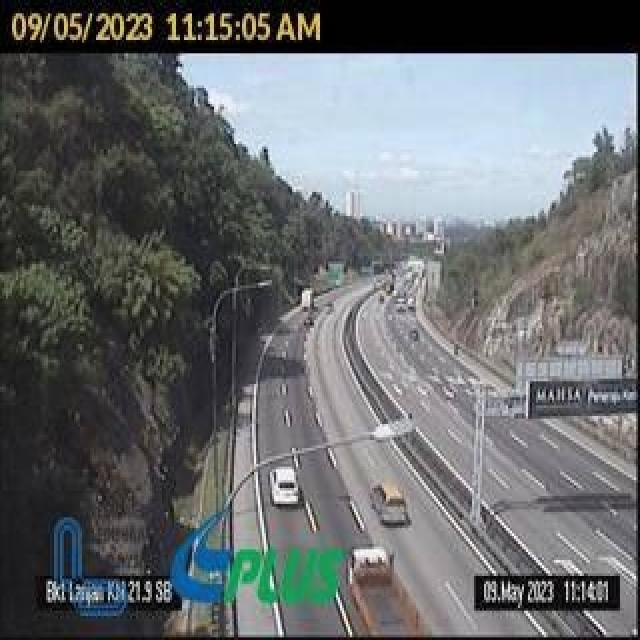Car: (368, 481, 408, 528), (268, 464, 302, 508), (394, 296, 407, 313)
Truck: (344, 541, 428, 640), (301, 288, 316, 311)
